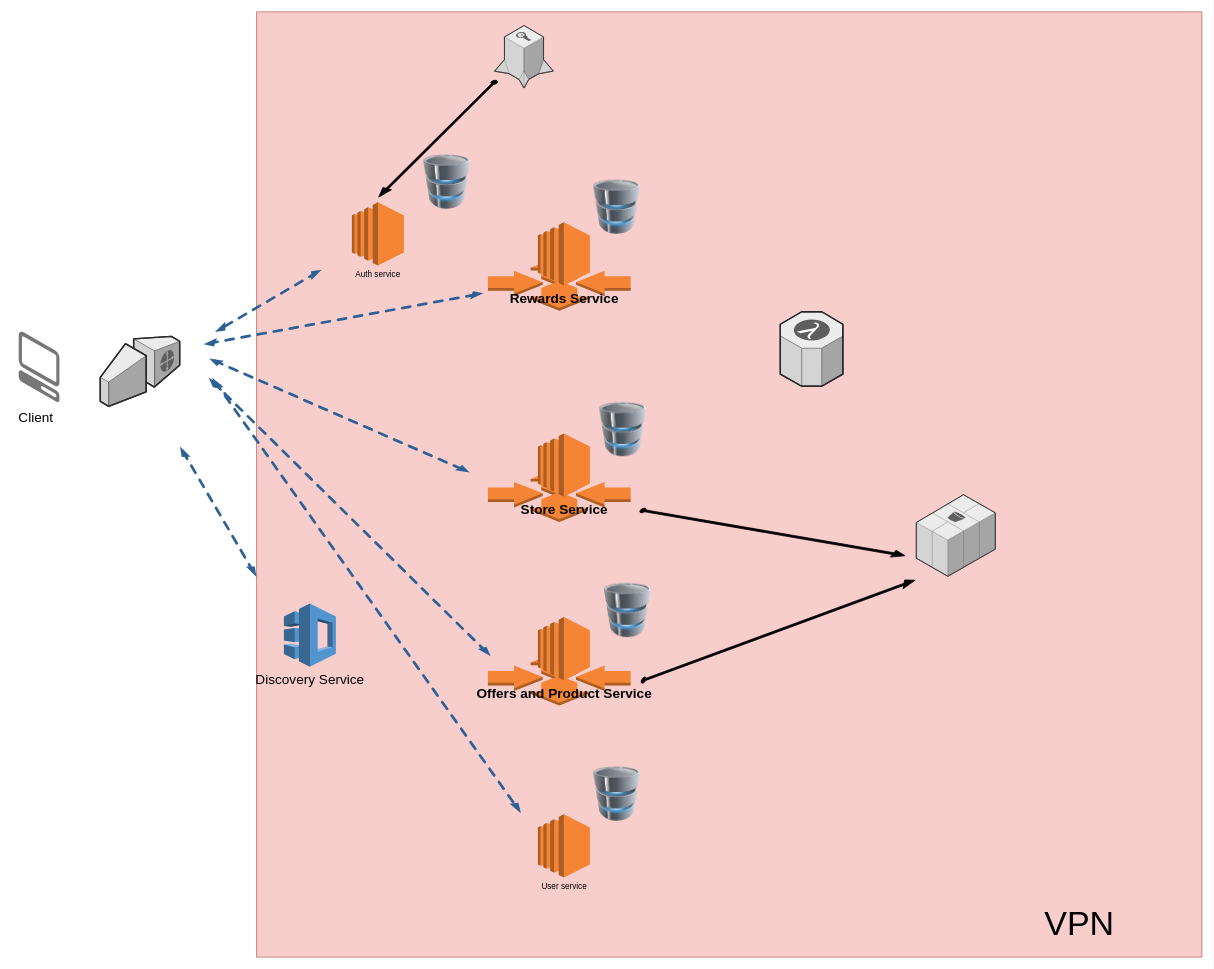
Image size: 1214x969. Some labels were removed from this diagram. The shapes that lost their labels are listed below. From the top down, each one's centre as x and y in pixels, then its label:
At pixel 811 348: "Crawlers".
At pixel 140 371: "Gateway".
At pixel 955 535: "S3".
